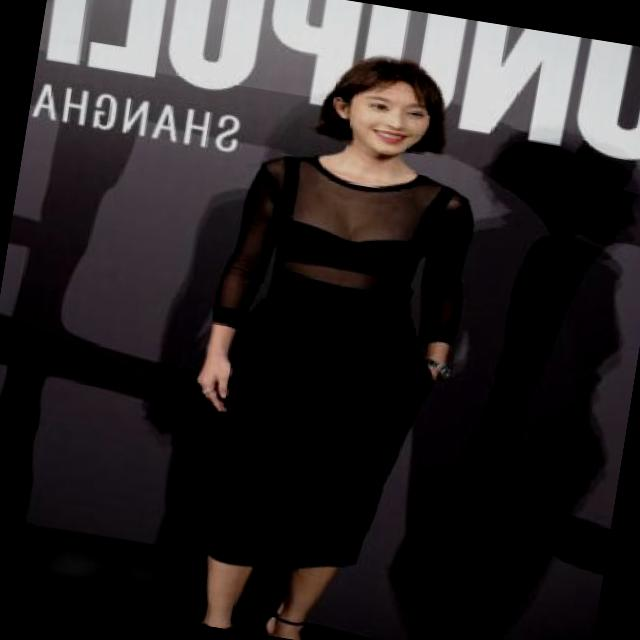Person: (98, 17, 539, 640)
